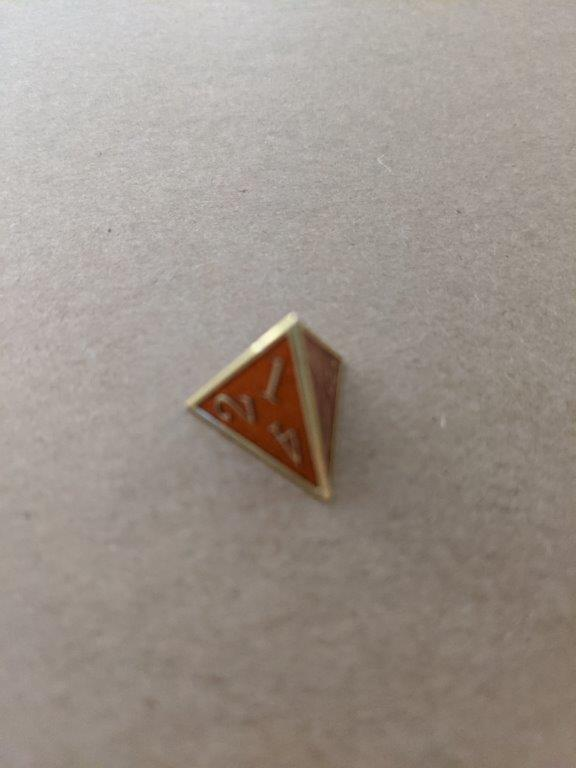d4-1: (180, 305, 345, 508)
